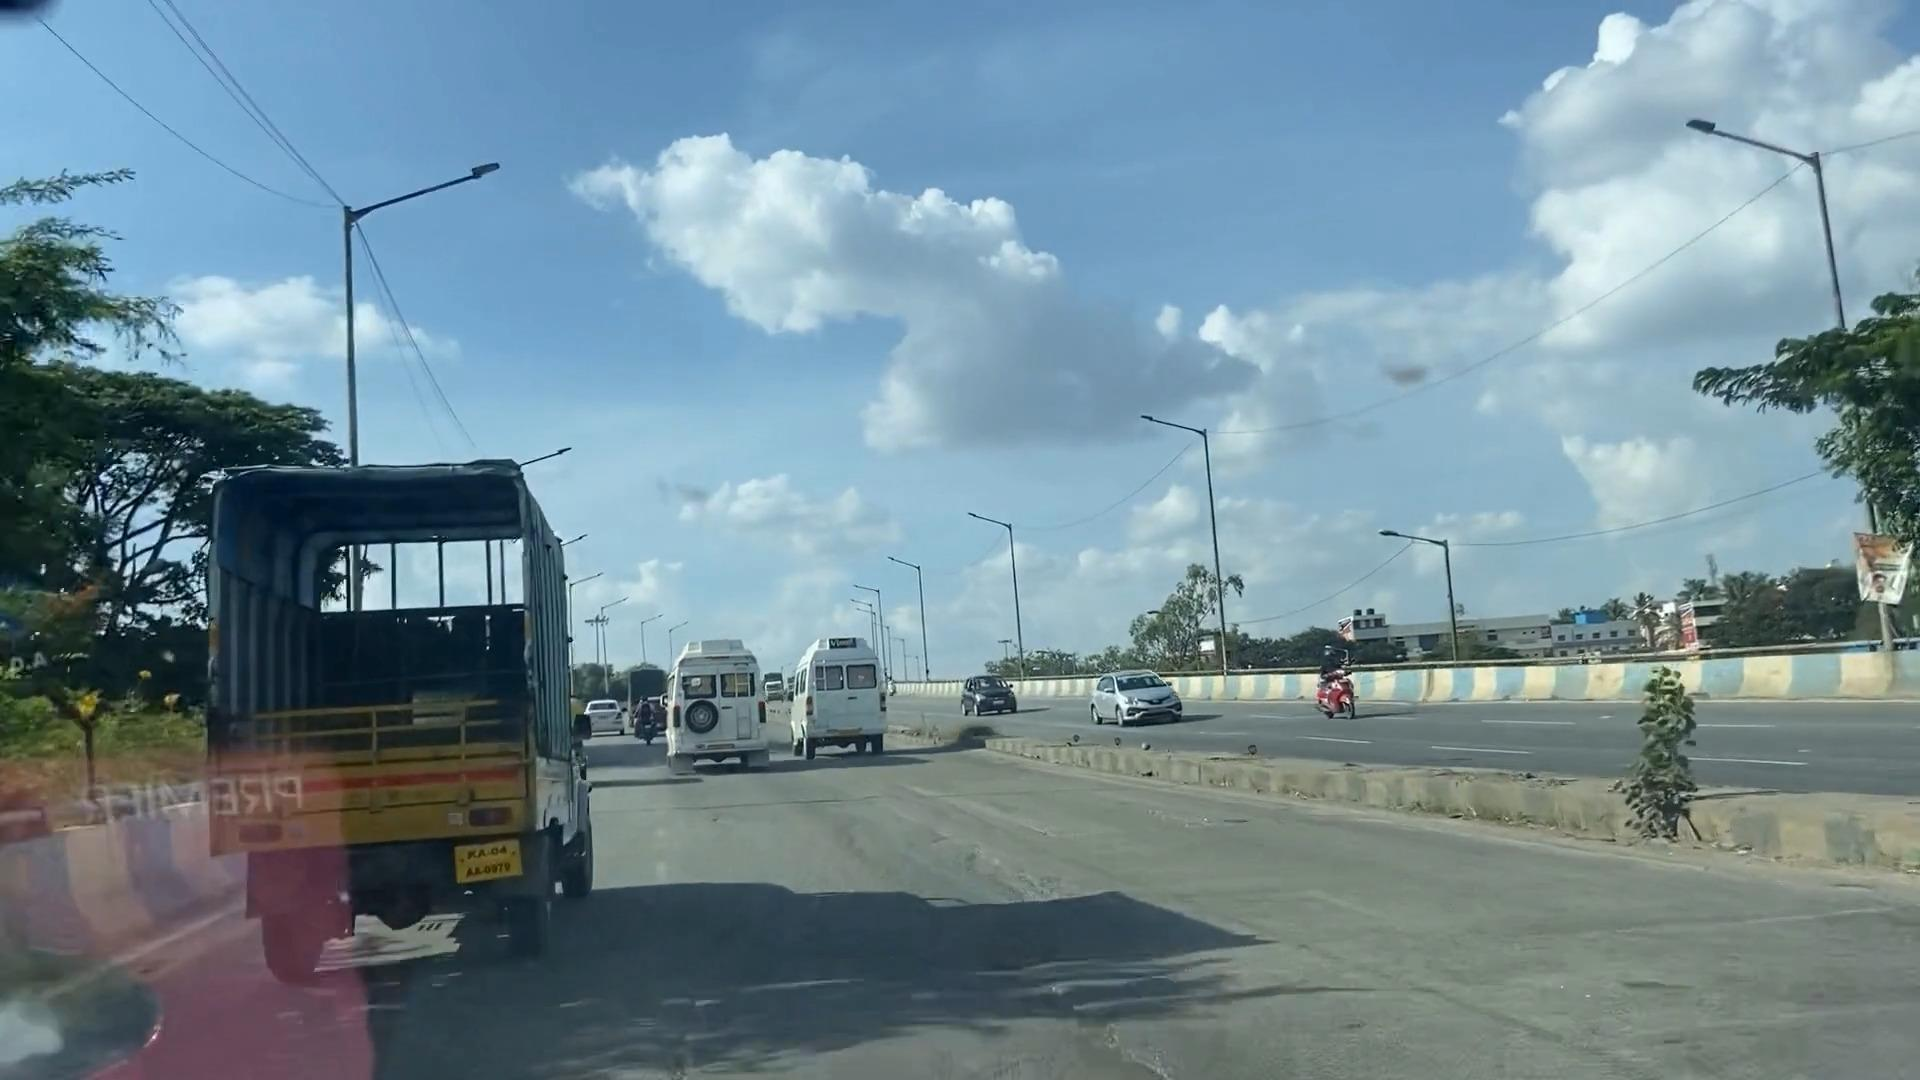HMV: (196, 430, 615, 959), (666, 622, 789, 795), (789, 642, 889, 761)
RoadDamages: (978, 894, 1209, 1080), (600, 975, 796, 1080)
